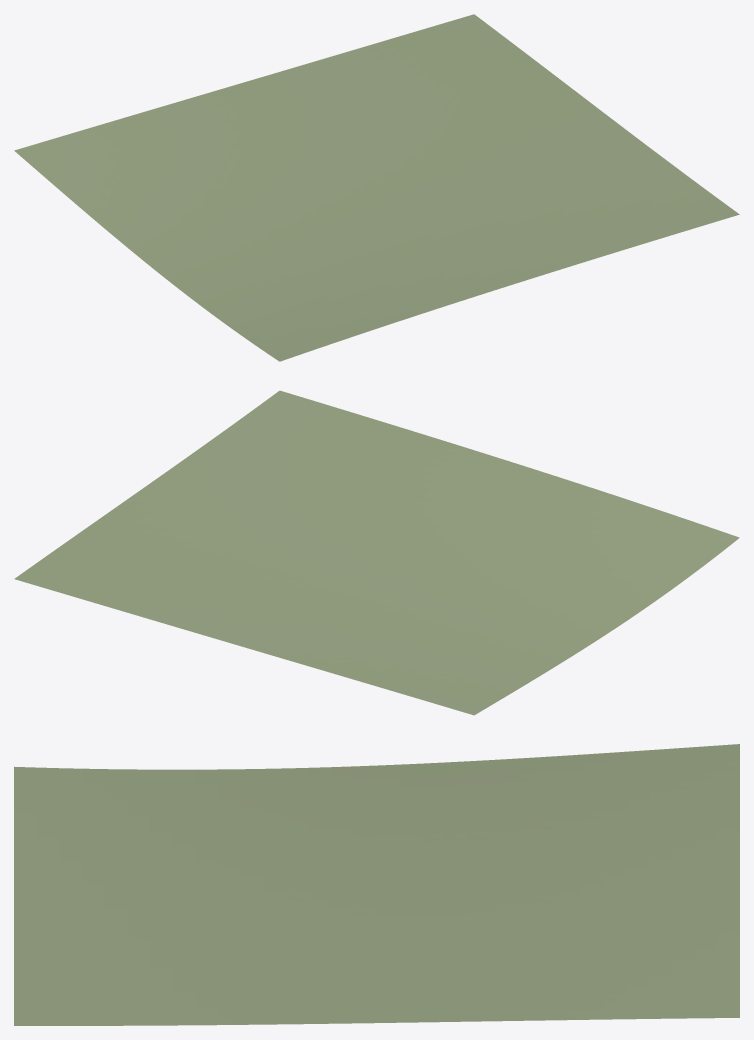
Rendered from expanse-27-15.glb.
The picture shows the model from 3 angles, top to bottom: view 1: azimuth 30°, elevation 25°; view 2: azimuth 150°, elevation 25°; view 3: azimuth 270°, elevation 25°; orthographic projection. The views are drawn at different scales.
Parts seen in each view (by area): view 1: expanse-27-15; view 2: expanse-27-15; view 3: expanse-27-15.
Boxes of the visible parts, bbox=[...] form: expanse-27-15: bbox=[14, 14, 739, 361]; expanse-27-15: bbox=[14, 390, 739, 715]; expanse-27-15: bbox=[14, 744, 739, 1025].
Bounding box in the file's own units: 256 × 22.8 × 256.
